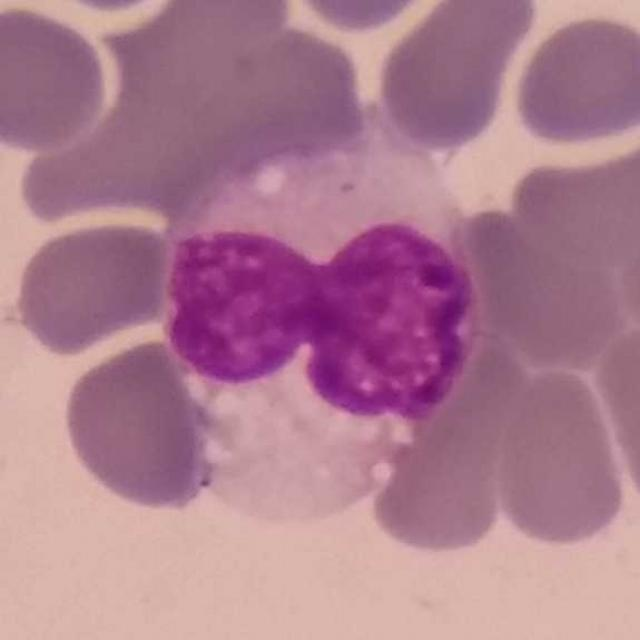mono: (163, 99, 486, 526)
